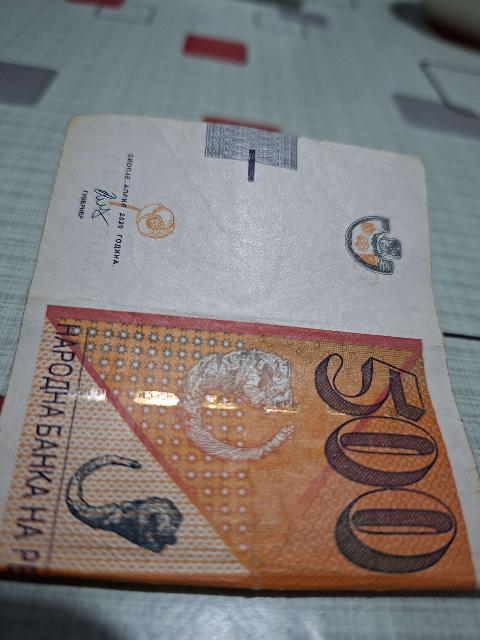500_note: (0, 115, 479, 589)
